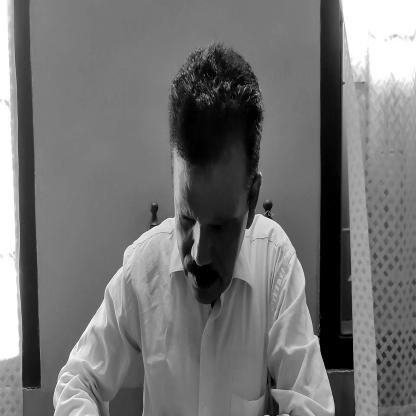Distracted: (170, 56, 262, 302)
